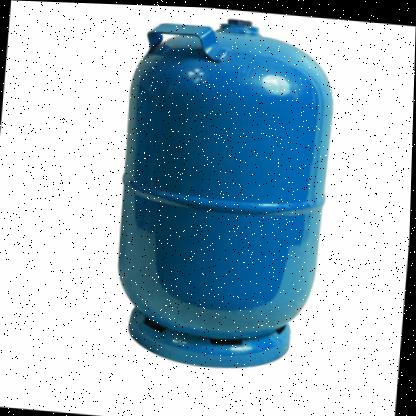gas-tank: (65, 2, 374, 396)
